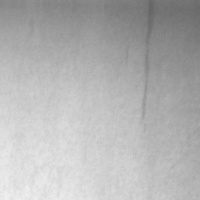inclusion: (134, 8, 161, 131)
